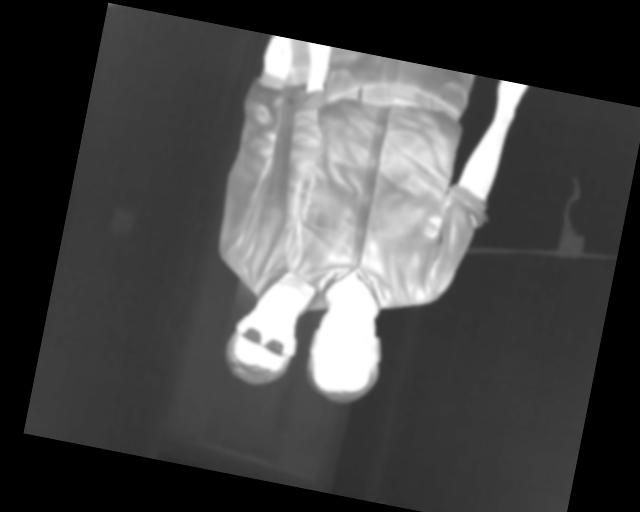face: (298, 295, 391, 411), (221, 294, 305, 392)
